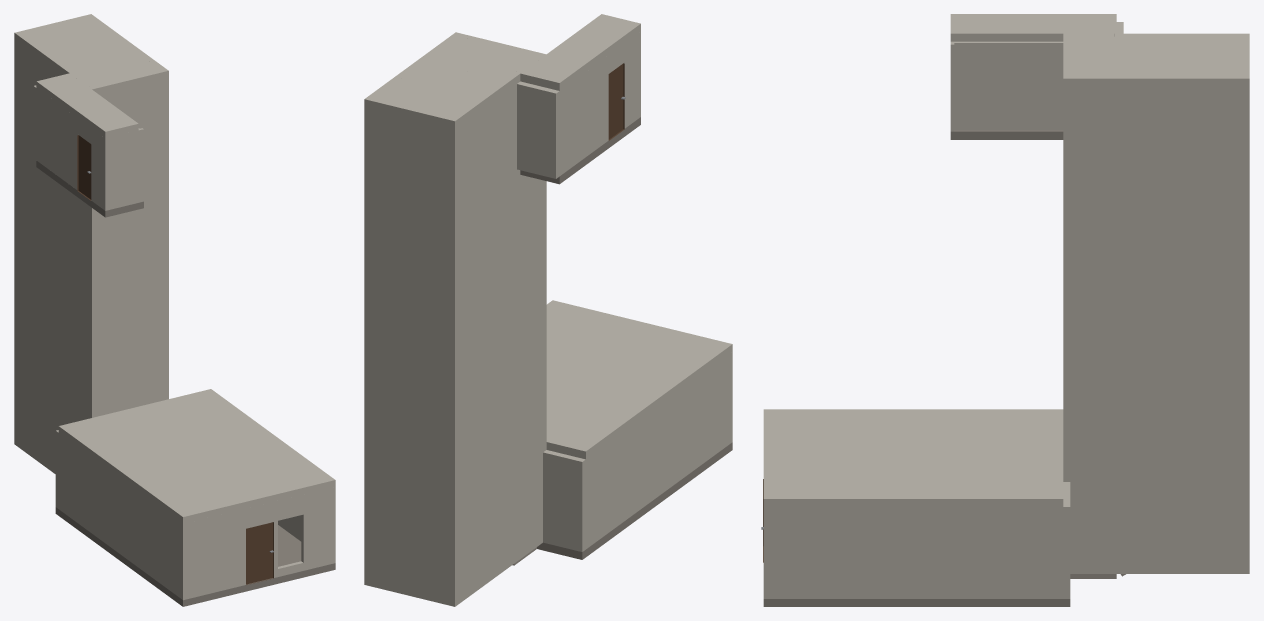
3 renders of one model, left to right at view 1: azimuth 30°, elevation 25°; view 2: azimuth 150°, elevation 25°; view 3: azimuth 270°, elevation 25°, orthographic. The views are drawn at different scales.
Visible parts, largest first — view 1: COL_stairwell.lobby.ceiling, COL_stairwell.core.west.s0, COL_stairwell.core.south.t0, COL_stairwell.lobby.west.end, COL_stairwell.core.south.end, COL_stairwell.lobby.south.s0, COL_stairwell.core.cap, COL_stairwell.core.south.s0, COL_stairwell.core.west.b0, COL_stairwell.corridor.west.s0, COL_stairwell.corridor.ceiling, COL_stairwell.lobby.floor (+10 smaller); view 2: COL_stairwell.core.north.end, COL_stairwell.core.west.s0, COL_stairwell.lobby.ceiling, COL_stairwell.lobby.west.end, COL_stairwell.core.west.b0, COL_stairwell.core.cap, COL_stairwell.corridor.west.s0, COL_stairwell.corridor.ceiling, COL_stairwell.lobby.north-w.end, COL_stairwell.corridor.north.end, COL_stairwell.lobby.floor, COL_stairwell.corridor.west.end (+4 smaller); view 3: COL_stairwell.core.east.end, COL_stairwell.lobby.ceiling, COL_stairwell.lobby.east.end, COL_stairwell.corridor.east.end, COL_stairwell.core.cap, COL_stairwell.corridor.ceiling, COL_stairwell.core.south.end, COL_stairwell.lobby.floor, COL_stairwell.corridor.floor, COL_stairwell.lobby.north-e.end.
Boxes of the visible parts, x1,y1,x2,y2 form: COL_stairwell.lobby.ceiling: (58,389,335,523); COL_stairwell.core.west.s0: (14,32,75,473); COL_stairwell.core.south.t0: (107,73,150,413); COL_stairwell.lobby.west.end: (58,433,185,600); COL_stairwell.core.south.end: (148,69,168,403); COL_stairwell.lobby.south.s0: (181,508,245,599); COL_stairwell.core.cap: (23,17,160,85); COL_stairwell.core.south.s0: (89,83,109,418); COL_stairwell.core.west.b0: (70,192,88,422); COL_stairwell.corridor.west.s0: (36,88,77,189); COL_stairwell.corridor.ceiling: (36,73,138,138); COL_stairwell.lobby.floor: (55,507,335,606); COL_stairwell.core.north.end: (364,97,457,606); COL_stairwell.core.west.s0: (450,71,521,606); COL_stairwell.lobby.ceiling: (546,300,732,459); COL_stairwell.lobby.west.end: (586,354,729,548); COL_stairwell.core.west.b0: (521,175,542,557); COL_stairwell.core.cap: (374,36,536,117); COL_stairwell.corridor.west.s0: (559,55,608,175); COL_stairwell.corridor.ceiling: (520,14,640,90); COL_stairwell.lobby.north-w.end: (543,450,585,551); COL_stairwell.corridor.north.end: (517,81,559,178); COL_stairwell.lobby.floor: (537,442,732,559); COL_stairwell.corridor.west.end: (624,33,639,128); COL_stairwell.core.east.end: (1063,75,1249,573); COL_stairwell.lobby.ceiling: (763,409,1063,506); COL_stairwell.lobby.east.end: (769,507,1063,598); COL_stairwell.corridor.east.end: (950,41,1063,130); COL_stairwell.core.cap: (1070,36,1242,75); COL_stairwell.corridor.ceiling: (950,14,1116,41); COL_stairwell.core.south.end: (1063,68,1070,481); COL_stairwell.lobby.floor: (763,599,1070,606); COL_stairwell.corridor.floor: (950,130,1063,139); COL_stairwell.lobby.north-e.end: (1063,482,1070,598).
Bounding box in the file's own units: 6.02 × 15.6 × 13.72.
